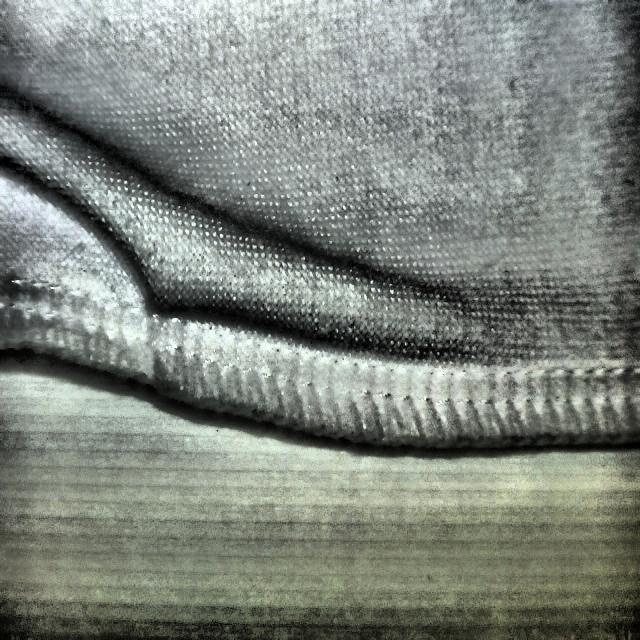seam: (51, 167, 307, 436)
